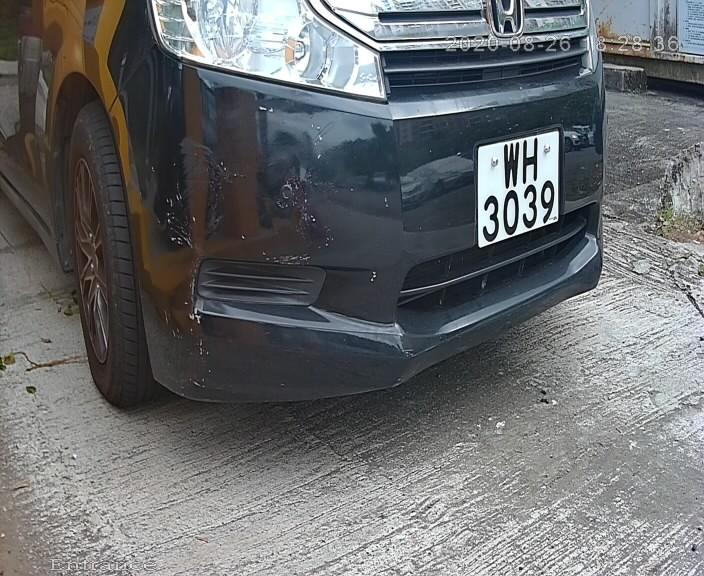License Plate: (466, 116, 569, 260)
